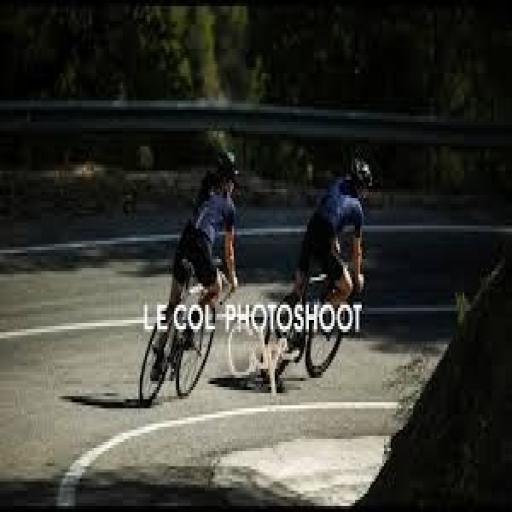cycling: (149, 152, 244, 387), (290, 152, 376, 336)
